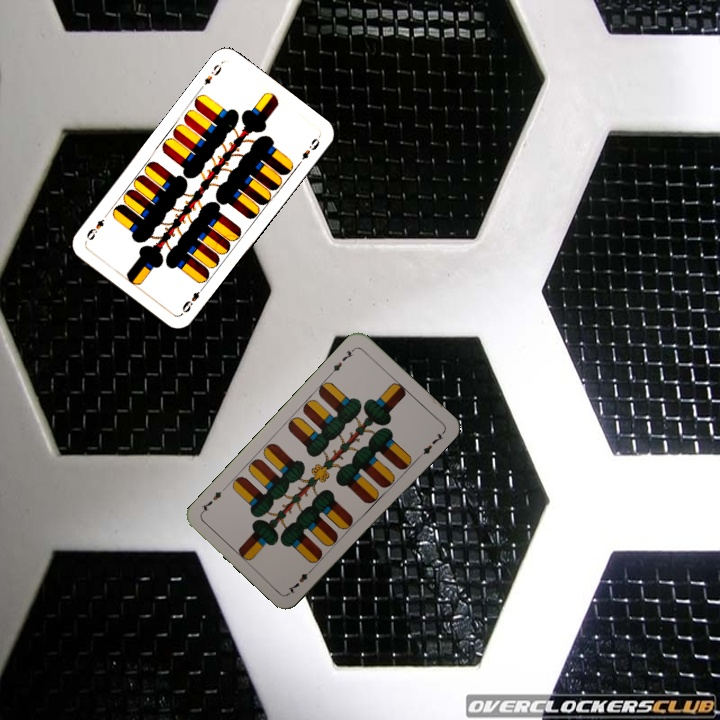E7: (284, 563, 316, 596), (326, 344, 357, 377)
E9: (178, 282, 207, 315), (200, 60, 224, 88)
